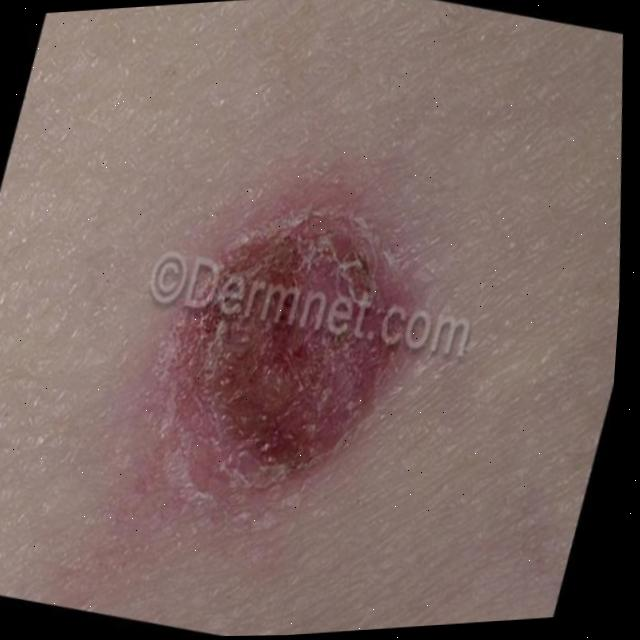Eczema: (196, 211, 416, 444)
